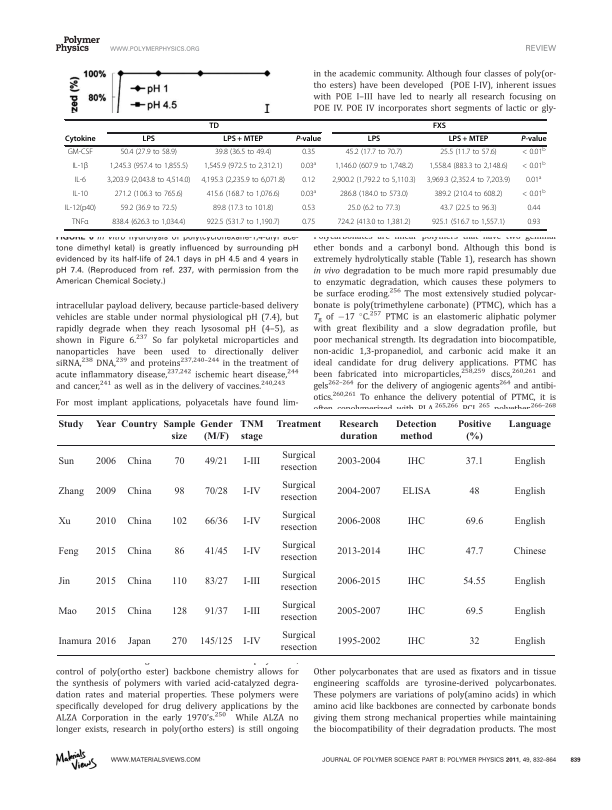borderless: (56, 414, 555, 655), (63, 118, 546, 229)
cell: (395, 420, 437, 443), (338, 420, 379, 443), (279, 480, 318, 504), (279, 451, 318, 474), (279, 510, 318, 533), (279, 540, 318, 563), (279, 570, 318, 593), (279, 600, 318, 623), (279, 630, 318, 653), (200, 176, 286, 186), (331, 176, 417, 186), (106, 176, 191, 186), (426, 176, 511, 186), (457, 420, 492, 443), (109, 162, 189, 172), (203, 162, 283, 172), (334, 162, 414, 172), (428, 162, 508, 172), (162, 420, 196, 443), (199, 420, 233, 443), (206, 190, 281, 200), (111, 218, 186, 228), (206, 218, 281, 228), (336, 218, 411, 228), (431, 218, 506, 228), (114, 190, 184, 200), (339, 190, 409, 200), (433, 190, 503, 200), (212, 204, 274, 214), (119, 148, 178, 158), (439, 148, 498, 158), (119, 204, 178, 214), (439, 204, 498, 214), (214, 148, 272, 158), (345, 148, 403, 158), (239, 420, 264, 443), (336, 486, 381, 498), (347, 204, 401, 214), (275, 420, 322, 431), (507, 420, 552, 431), (336, 457, 381, 468), (336, 516, 381, 527), (336, 546, 381, 557), (336, 576, 381, 587), (336, 606, 381, 617), (336, 636, 381, 647), (222, 135, 264, 145), (120, 420, 158, 431), (448, 135, 489, 145), (513, 486, 546, 498), (512, 546, 547, 557), (57, 636, 92, 647), (199, 636, 233, 647), (513, 457, 546, 468), (513, 516, 546, 527), (513, 576, 546, 587), (513, 606, 546, 617), (513, 636, 546, 647), (401, 486, 431, 498), (57, 486, 85, 498), (64, 204, 97, 214), (64, 135, 96, 145), (126, 486, 152, 498), (57, 420, 84, 431), (204, 486, 228, 498), (126, 457, 152, 468), (126, 516, 152, 527), (126, 546, 152, 557), (126, 576, 152, 587), (126, 606, 152, 617), (521, 147, 546, 158), (521, 161, 546, 172), (521, 189, 546, 200), (295, 135, 322, 145), (520, 135, 547, 145), (67, 148, 94, 158), (204, 457, 228, 468), (95, 486, 117, 498), (204, 516, 228, 527), (204, 546, 228, 557), (204, 576, 228, 587), (462, 576, 486, 587), (204, 606, 228, 617), (127, 636, 151, 647), (95, 420, 117, 431), (94, 457, 116, 468), (94, 516, 116, 527), (57, 546, 79, 557), (95, 546, 117, 557), (95, 576, 117, 587), (95, 606, 117, 617), (95, 636, 117, 647), (242, 486, 261, 498), (406, 457, 426, 468), (464, 457, 484, 468), (406, 516, 426, 527), (464, 516, 484, 527), (406, 546, 426, 557), (464, 546, 484, 557), (406, 576, 426, 587), (57, 606, 77, 617), (406, 606, 426, 617), (464, 606, 484, 617), (406, 636, 426, 647), (242, 457, 261, 468), (242, 516, 261, 527), (242, 546, 261, 557), (242, 576, 261, 587), (242, 606, 261, 617), (242, 636, 261, 647), (57, 457, 75, 468), (171, 516, 188, 527), (171, 606, 188, 617), (171, 636, 188, 647), (300, 161, 317, 172), (525, 175, 542, 186), (300, 189, 317, 200), (71, 162, 89, 172), (71, 218, 89, 228), (171, 576, 187, 587), (72, 190, 89, 200), (57, 516, 71, 527), (57, 576, 71, 587), (141, 135, 156, 145), (301, 148, 316, 158), (301, 176, 316, 186), (301, 204, 316, 214), (526, 204, 541, 214), (301, 218, 316, 228), (526, 218, 541, 228), (173, 486, 185, 498), (468, 486, 480, 498), (367, 135, 381, 145), (73, 176, 87, 186), (432, 122, 447, 131), (173, 457, 185, 468), (173, 546, 185, 557), (468, 636, 480, 647), (208, 122, 220, 131)
